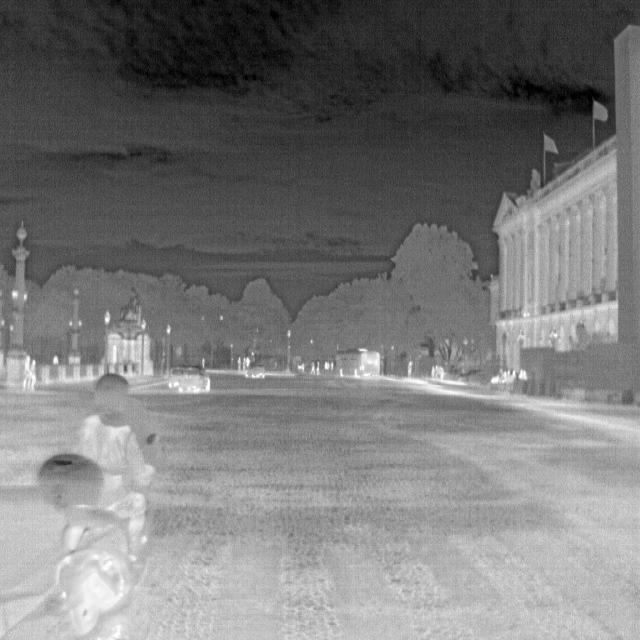Pedestrian: (22, 352, 33, 390)
Vehicle: (31, 365, 176, 631)
